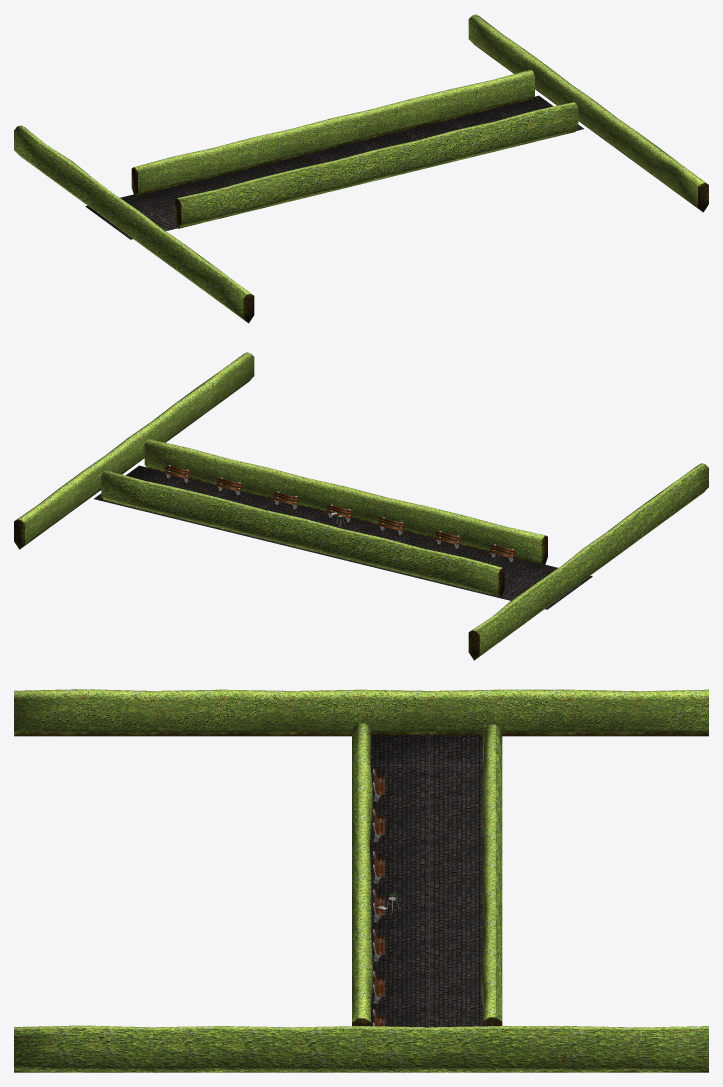
File: park.obj
3 renders of one model, top to bottom at view 1: azimuth 30°, elevation 25°; view 2: azimuth 150°, elevation 25°; view 3: azimuth 270°, elevation 25°, orthographic. The views are drawn at different scales.
Parts seen in each view (by area): view 1: park_tonne; view 2: park_tonne, Cube4_sep87_grill; view 3: park_tonne, Cube4_sep87_grill.
Boxes of the visible parts, x1=… form: park_tonne: x1=14, y1=14, x2=708, y2=323; park_tonne: x1=14, y1=352, x2=708, y2=660; Cube4_sep87_grill: x1=162, y1=465, x2=515, y2=561; park_tonne: x1=14, y1=689, x2=708, y2=1072; Cube4_sep87_grill: x1=373, y1=768, x2=398, y2=1026.
Size of what is drawn, in the model's own units: 561 by 34.86 by 478.
